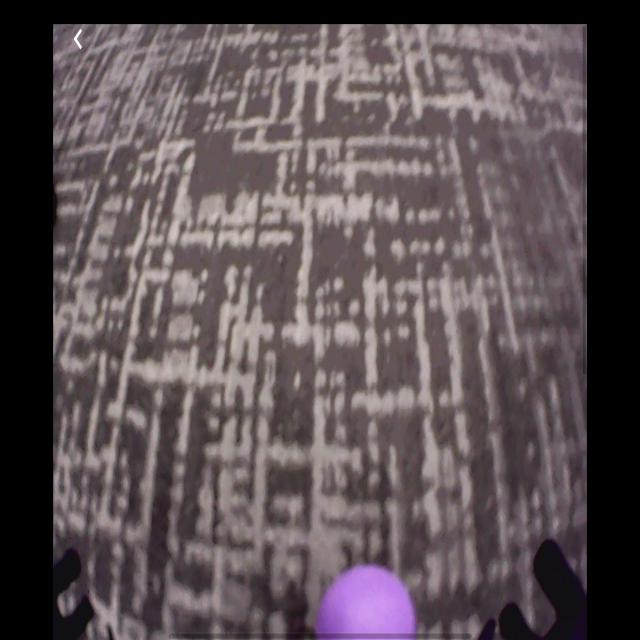ball: (313, 565, 420, 640)
